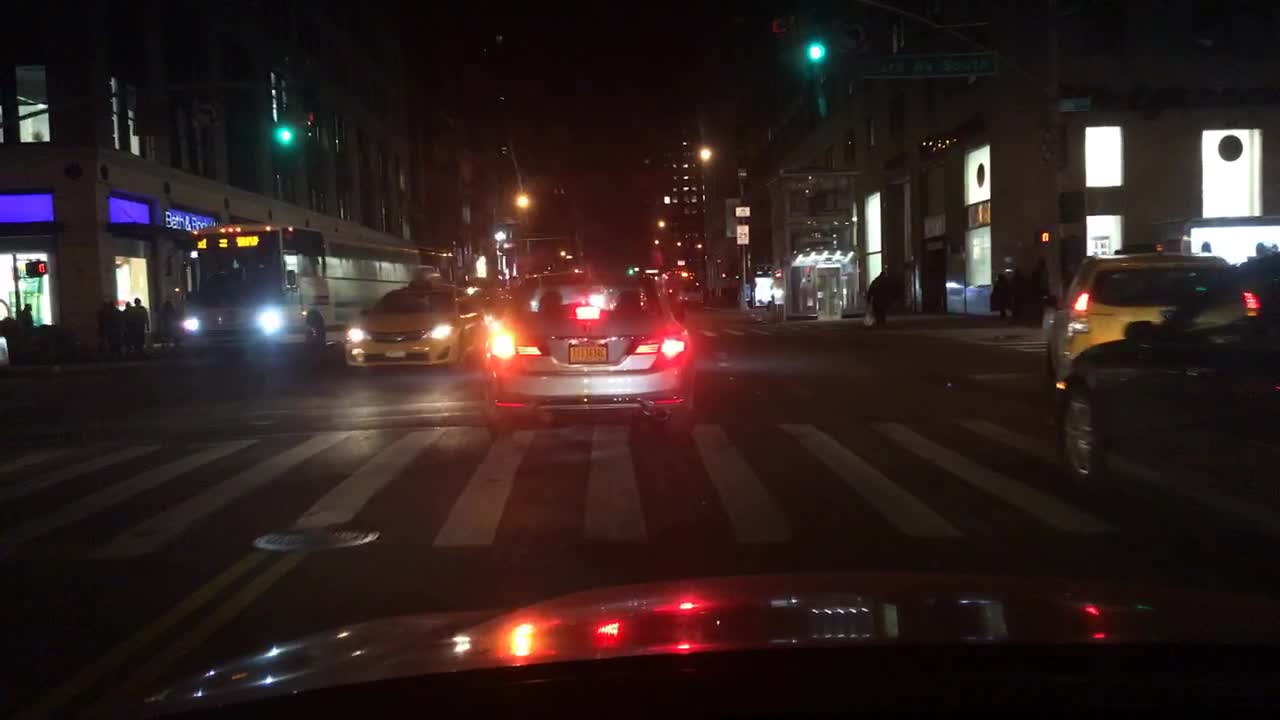car: (1055, 246, 1279, 531), (480, 268, 699, 442), (1044, 251, 1235, 417), (345, 278, 491, 373), (661, 273, 707, 308)
person: (1025, 258, 1048, 328), (870, 264, 893, 328), (121, 298, 138, 359), (1009, 262, 1026, 319), (161, 297, 179, 346), (96, 300, 111, 356), (106, 295, 119, 358), (21, 300, 34, 357), (992, 269, 1006, 320)
traffic light: (271, 128, 299, 144), (805, 39, 824, 61), (307, 108, 317, 145), (25, 262, 47, 275), (1036, 230, 1048, 242)
traffic sign: (854, 49, 994, 75), (1054, 94, 1094, 114), (735, 224, 749, 243), (735, 206, 750, 215)
truck: (190, 221, 447, 370)
